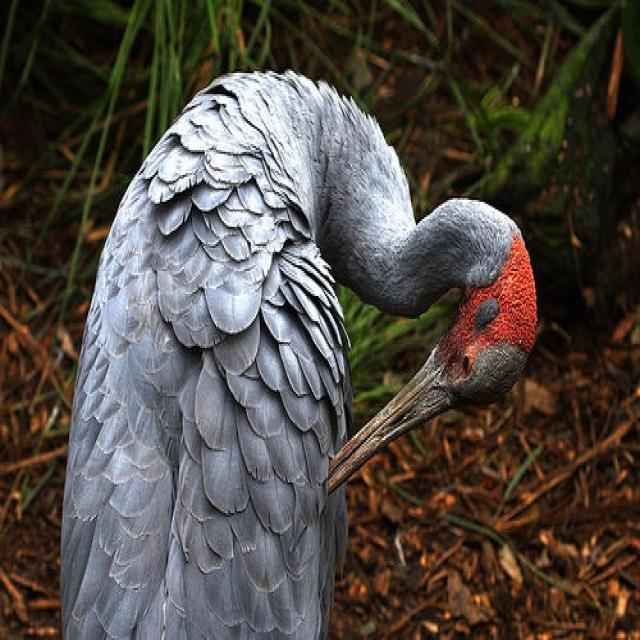bird: (55, 65, 539, 638)
